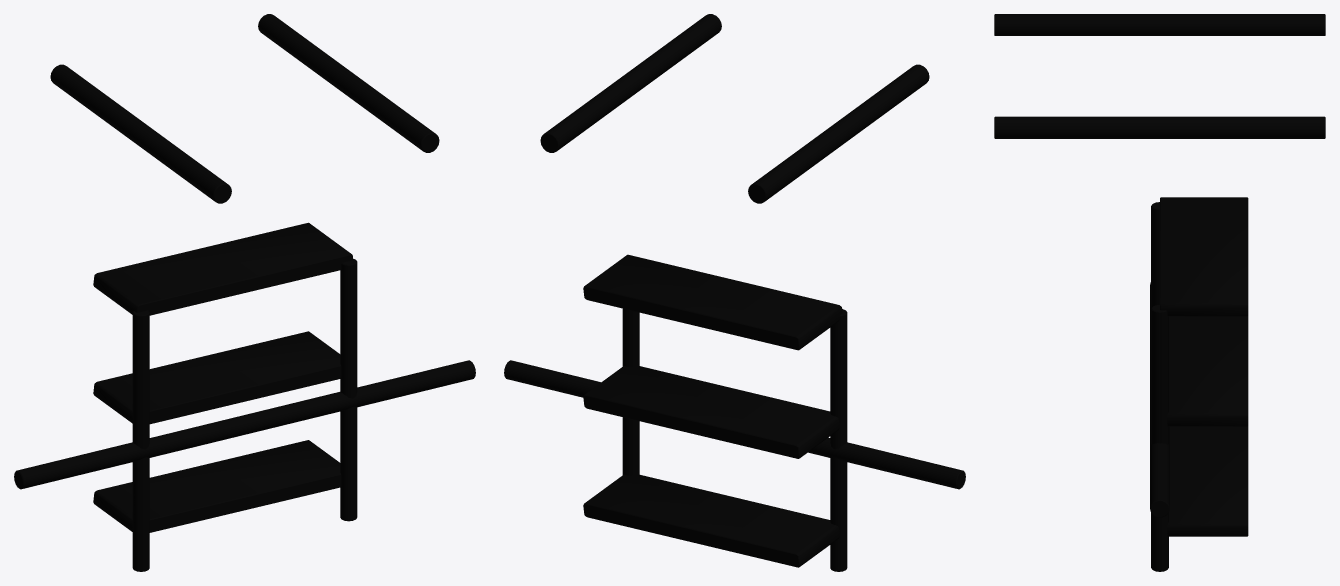
Rendered from LV_pool_ladder.glb.
3 views of the same model, side by side, from view 1: azimuth 30°, elevation 25°; view 2: azimuth 150°, elevation 25°; view 3: azimuth 270°, elevation 25° (orthographic).
Parts seen in each view (by area): view 1: LV_pool_ladder; view 2: LV_pool_ladder; view 3: LV_pool_ladder.
Part boxes in pixels (x1,y1,x2,y2): LV_pool_ladder: (14, 14, 475, 571); LV_pool_ladder: (504, 14, 965, 571); LV_pool_ladder: (994, 14, 1325, 571).
Size of the model in its own units: 0.96 by 0.9 by 0.6.
Materials: 1 (1 with a texture image).
